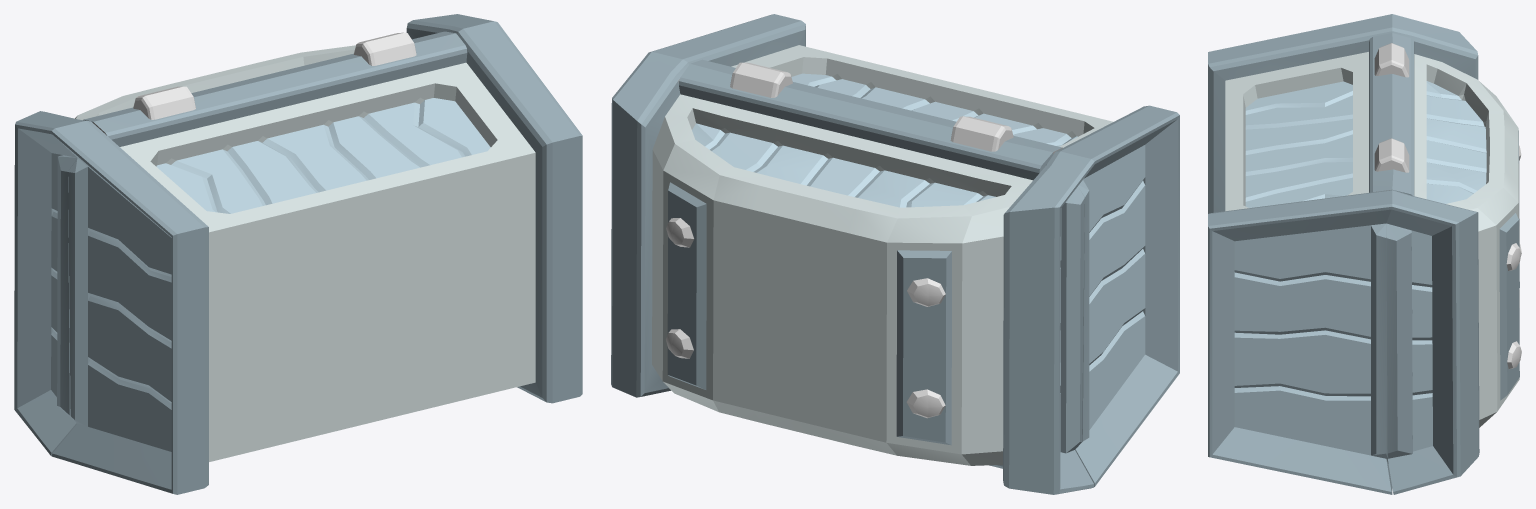
File: Normal.fbx
3 views of the same model, side by side, from view 1: azimuth 30°, elevation 25°; view 2: azimuth 150°, elevation 25°; view 3: azimuth 270°, elevation 25° (orthographic). The views are drawn at different scales.
Parts seen in each view (by area): view 1: Treasure_Chest_1c, Opened_13; view 2: Opened_13, Treasure_Chest_1c; view 3: Treasure_Chest_1c, Opened_13.
Boxes of the visible parts, x1=… form: Treasure_Chest_1c: x1=51, y1=21, x2=582, y2=494; Opened_13: x1=14, y1=14, x2=493, y2=455; Opened_13: x1=611, y1=51, x2=1094, y2=494; Treasure_Chest_1c: x1=652, y1=14, x2=1179, y2=486; Treasure_Chest_1c: x1=1208, y1=14, x2=1409, y2=494; Opened_13: x1=1386, y1=14, x2=1521, y2=494.
Bounding box in the file's own units: 84.31 × 61.11 × 57.8.
